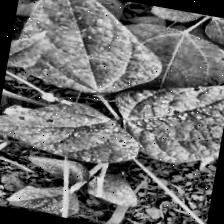ALS: (106, 58, 224, 164), (0, 89, 147, 174), (106, 17, 224, 98), (76, 0, 221, 28), (199, 15, 224, 80)
